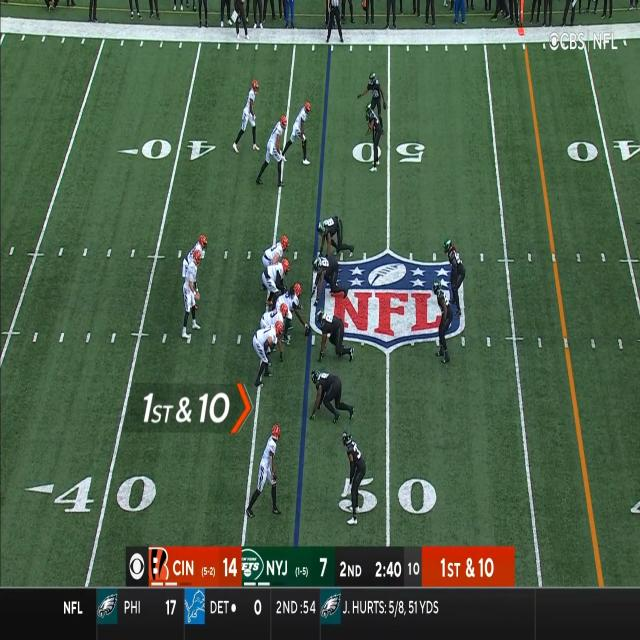football: (305, 326, 311, 337)
players: (248, 424, 284, 519), (309, 369, 356, 428), (440, 242, 468, 335), (256, 116, 288, 192), (340, 432, 366, 525), (317, 307, 353, 366), (269, 281, 303, 341), (233, 81, 260, 154), (287, 98, 315, 168), (254, 316, 281, 388), (434, 277, 456, 364), (316, 213, 350, 269), (182, 246, 202, 338), (184, 234, 209, 300), (265, 252, 294, 304), (261, 304, 287, 361), (262, 238, 290, 288), (368, 108, 385, 178), (366, 77, 385, 139)
